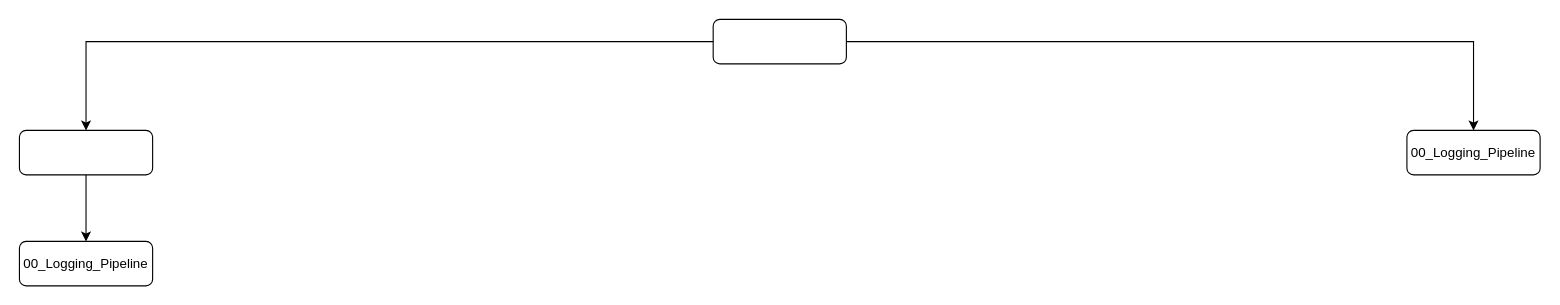
Image size: 1560x305. Some labels were removed from this diagram. The shapes that lost their labels are listed below. From the top down, each one's centre as x and y in pixels, then its label:
point (779, 41): 01_p3_Control_Process
point (85, 152): 01_p2_LoadDataInDB
